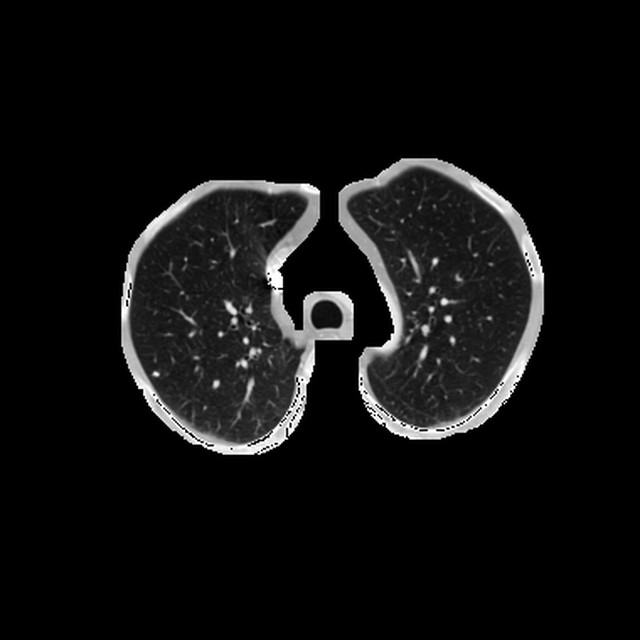PN: (152, 371, 158, 377)
